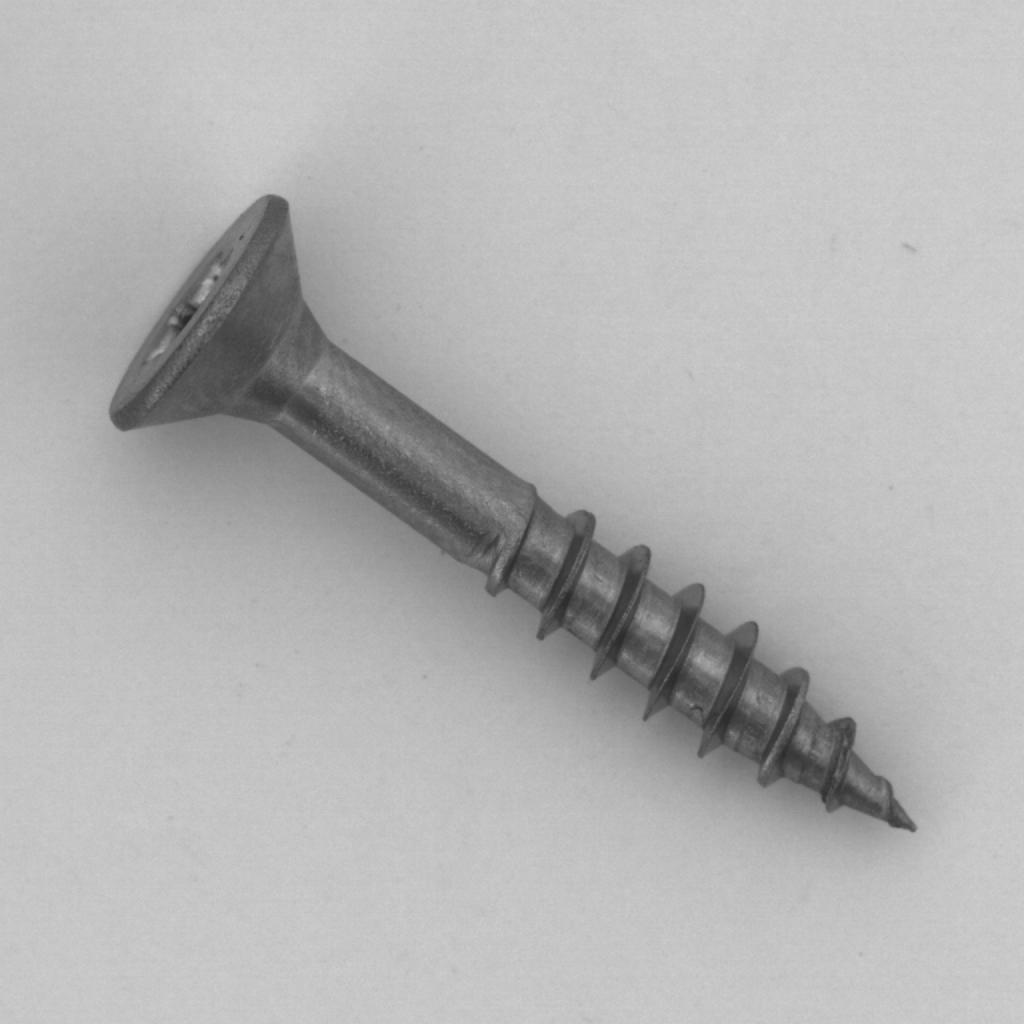good: (88, 175, 954, 862)
